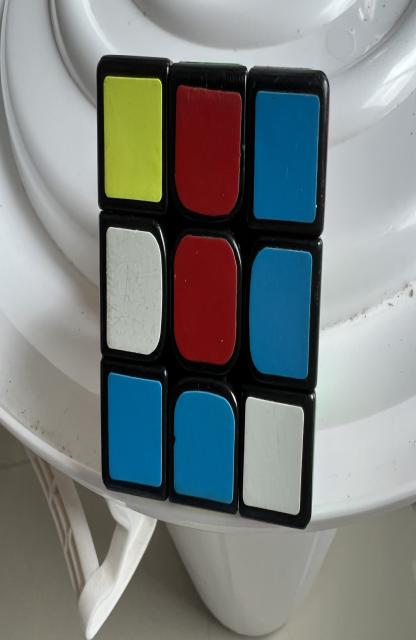Blue: (254, 90, 319, 223), (249, 247, 312, 378), (174, 390, 235, 503), (108, 372, 162, 487)
Red: (175, 85, 241, 217), (174, 235, 237, 365)
White: (243, 397, 304, 515), (106, 227, 162, 355)
Yellow: (103, 77, 162, 202)
